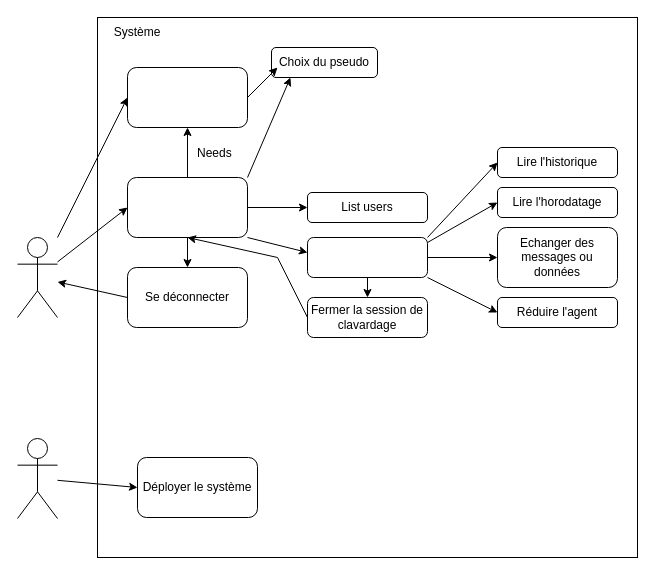
Image size: 655x575. Some labels were removed from this diagram. Here are the shapes that lost their labels. From the top down, the centre of each, then its label:
the point at 187,97: S'inscrire
the point at 187,207: Se connecter
the point at 37,277: User
the point at 367,257: Ouvrir session de clavardage
the point at 37,478: Admin
